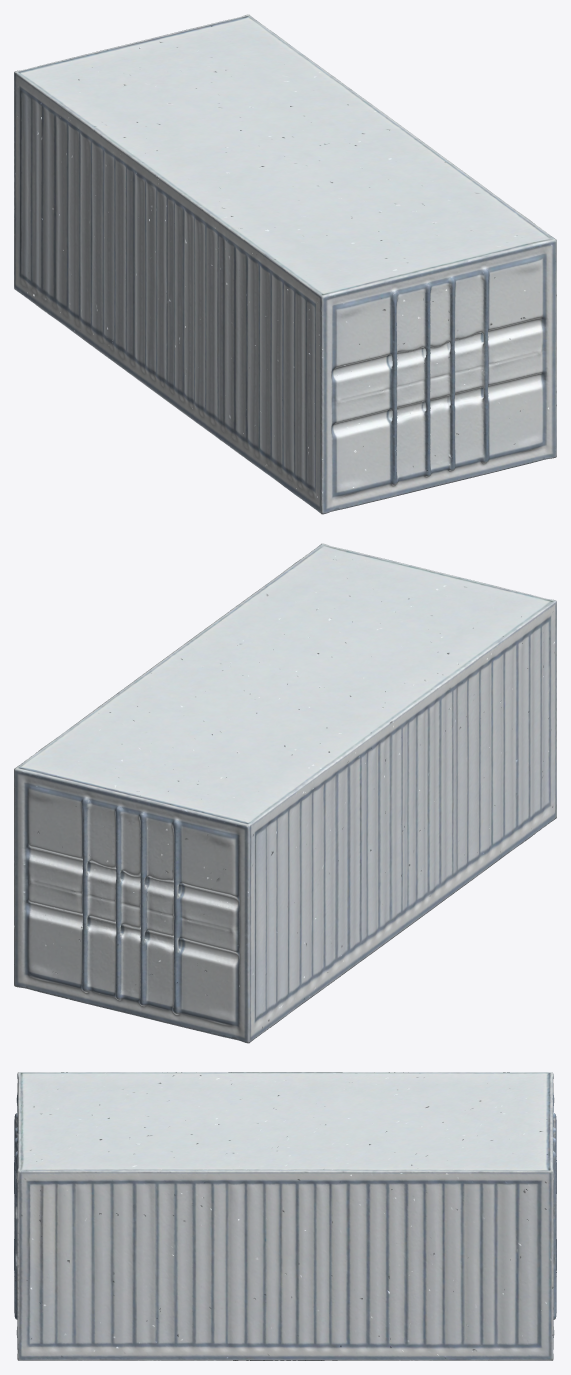
File: 20DR.original.glb
3 renders of one model, top to bottom at view 1: azimuth 30°, elevation 25°; view 2: azimuth 150°, elevation 25°; view 3: azimuth 270°, elevation 25°, orthographic. The views are drawn at different scales.
Bounding box in the file's own units: 0.8723 × 0.773 × 2.
Materials: 1 (1 with a texture image).
